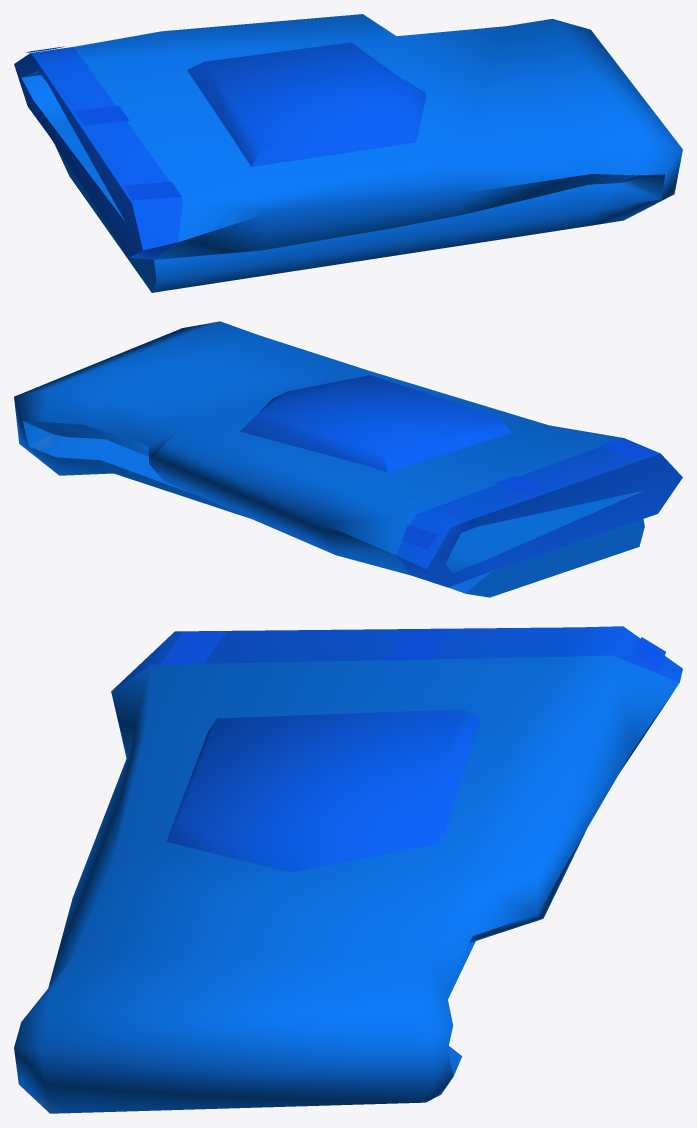
The model's file is PantsIroned.fbx.
The picture shows the model from 3 angles, top to bottom: view 1: azimuth 30°, elevation 25°; view 2: azimuth 150°, elevation 25°; view 3: azimuth 270°, elevation 25°; orthographic projection. The views are drawn at different scales.
Visible parts, largest first — view 1: PantsIroned; view 2: PantsIroned; view 3: PantsIroned.
Part boxes in pixels (x1,y1,x2,y2): PantsIroned: (14,14,682,292); PantsIroned: (14,321,682,597); PantsIroned: (14,626,682,1113).
Bounding box in the file's own units: 95.39 × 21.84 × 68.43.
